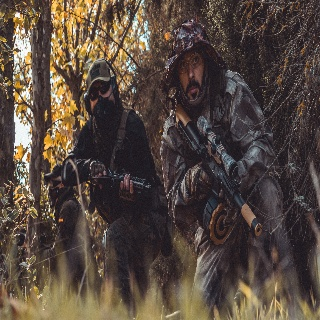rifle: (173, 102, 263, 247), (87, 162, 151, 196)
